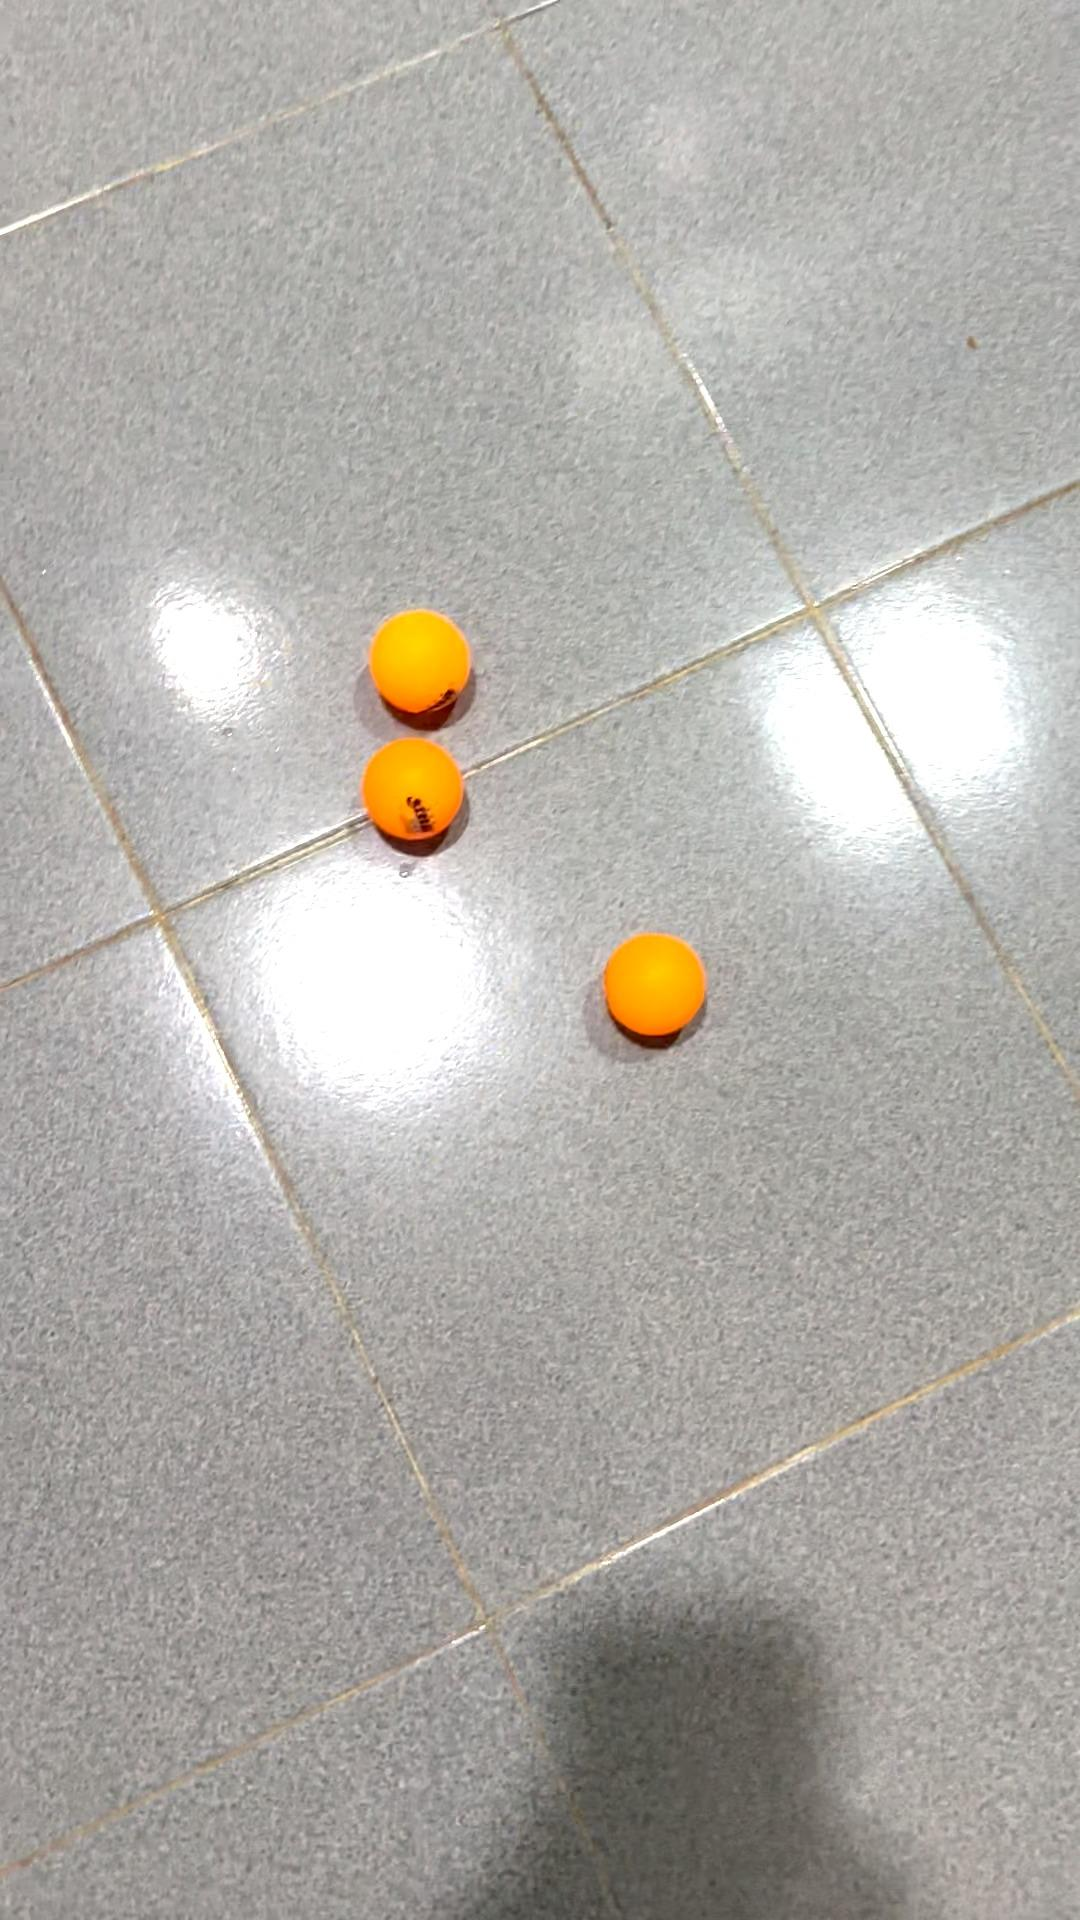oball: (348, 721, 473, 861), (357, 591, 487, 724), (596, 924, 713, 1051)
